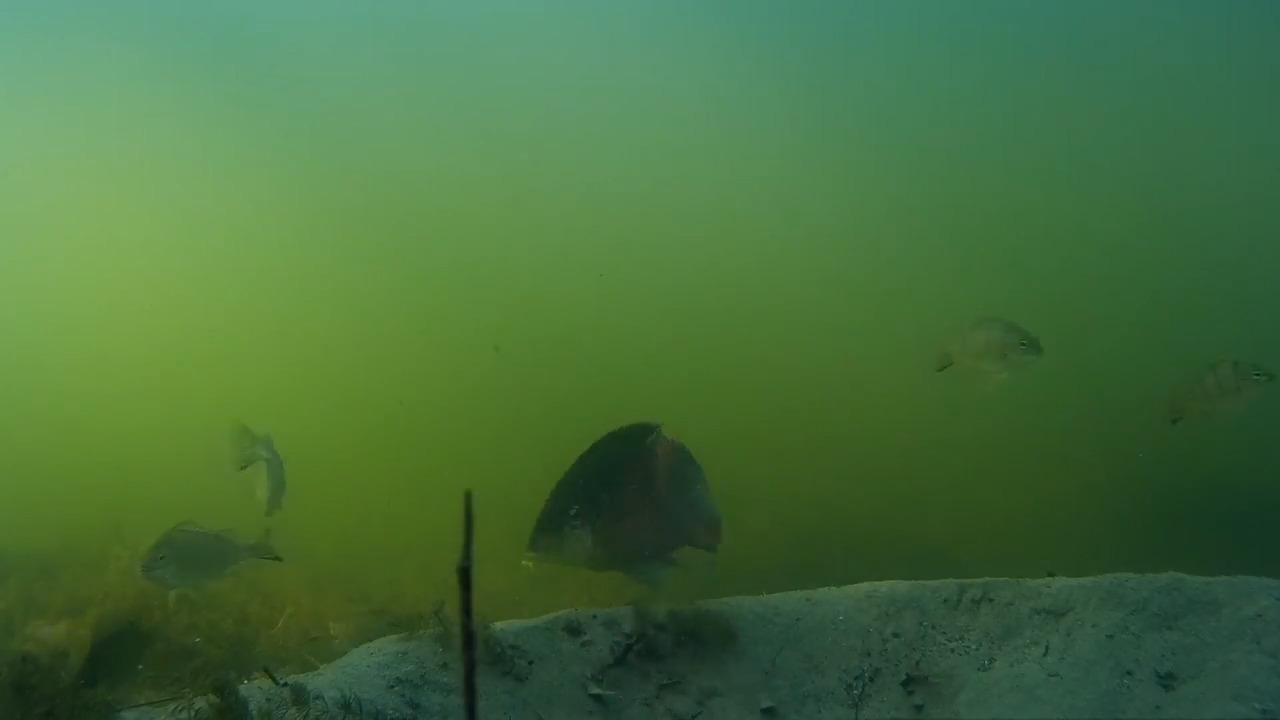Tilapia: (521, 418, 735, 589), (124, 519, 298, 595), (1151, 342, 1276, 442), (932, 314, 1055, 386)
